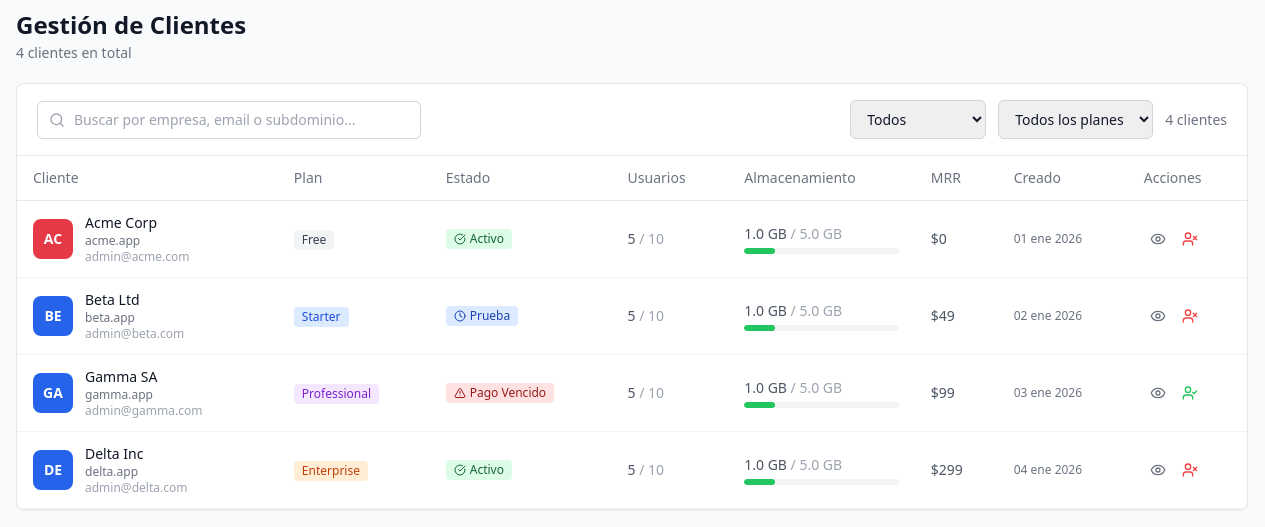
ClientsPage › búsqueda filtra por subdominio
Type "acme" into the field with placeholder "Buscar por empresa, email o subdominio..." at x=229, y=120, box [37, 100, 421, 138]
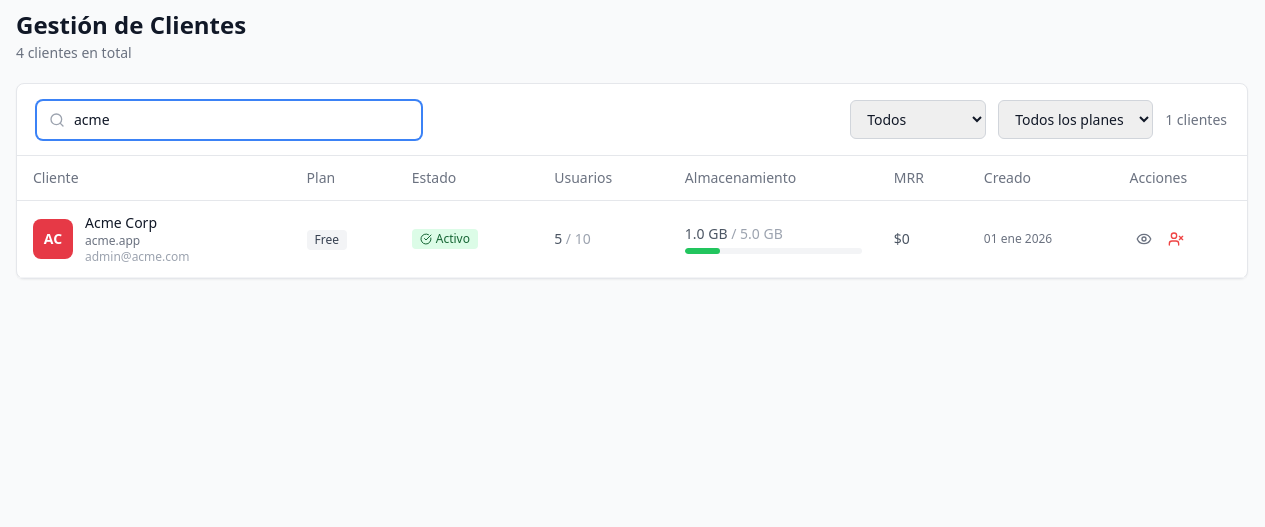
Expected: the text "Beta Ltd" is gone
Expected: the text "Gamma SA" is gone
Expected: the text "Delta Inc" is gone
